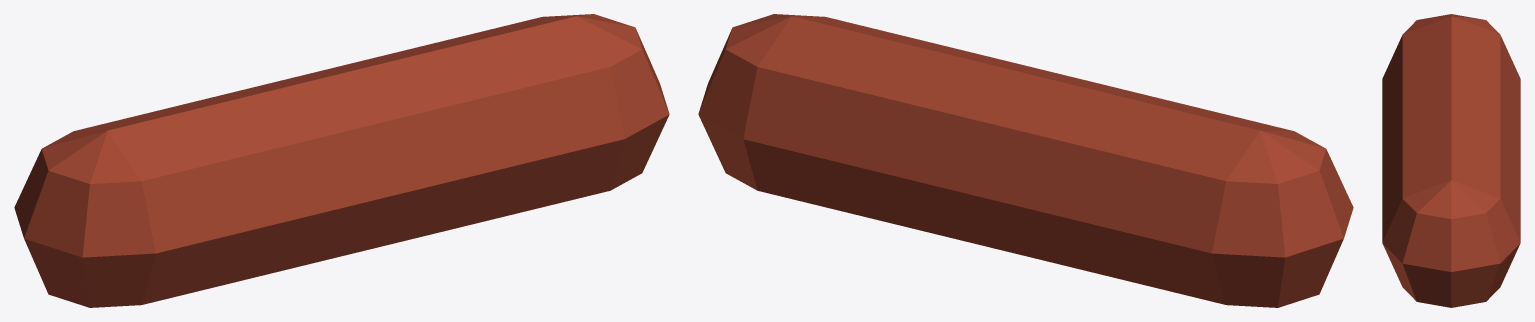
The model's file is sausage.fbx.
3 views of the same model, side by side, from view 1: azimuth 30°, elevation 25°; view 2: azimuth 150°, elevation 25°; view 3: azimuth 270°, elevation 25° (orthographic). The views are drawn at different scales.
Parts seen in each view (by area): view 1: sausage; view 2: sausage; view 3: sausage.
Boxes of the visible parts, x1,y1,x2,y2 form: sausage: (14,14,669,307); sausage: (698,14,1353,307); sausage: (1382,14,1520,307).
Bounding box in the file's own units: 0.76 × 0.2 × 0.2.
